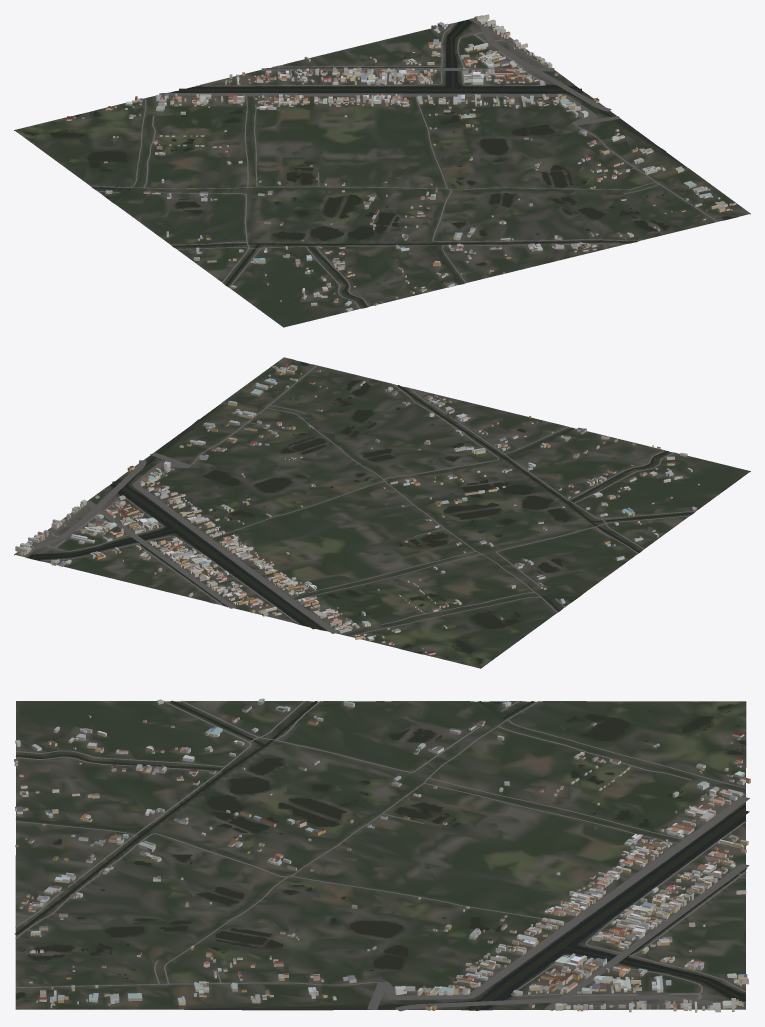
3 renders of one model, top to bottom at view 1: azimuth 30°, elevation 25°; view 2: azimuth 150°, elevation 25°; view 3: azimuth 270°, elevation 25°, orthographic. The views are drawn at different scales.
Visible parts, largest first — view 1: ground, buildings, water, roads; view 2: ground, buildings, water, roads; view 3: ground, buildings, water, roads.
Part boxes in pixels (bbox=[...]): ground: bbox=[14, 18, 750, 327]; buildings: bbox=[66, 14, 736, 312]; water: bbox=[24, 19, 734, 307]; roads: bbox=[90, 18, 717, 308]; ground: bbox=[14, 357, 750, 668]; buildings: bbox=[15, 364, 699, 655]; water: bbox=[28, 361, 693, 663]; roads: bbox=[24, 365, 696, 636]; ground: bbox=[15, 701, 746, 1010]; buildings: bbox=[14, 698, 750, 1012]; water: bbox=[14, 700, 749, 1010]; roads: bbox=[15, 700, 749, 1011].
Size of the model in its own units: 1414 by 18.68 by 1414.
